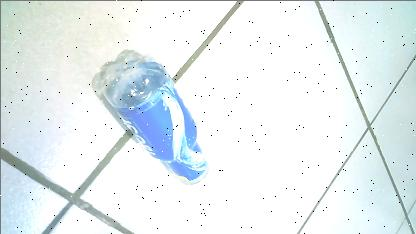Plastic Bottle: (84, 41, 230, 195)
